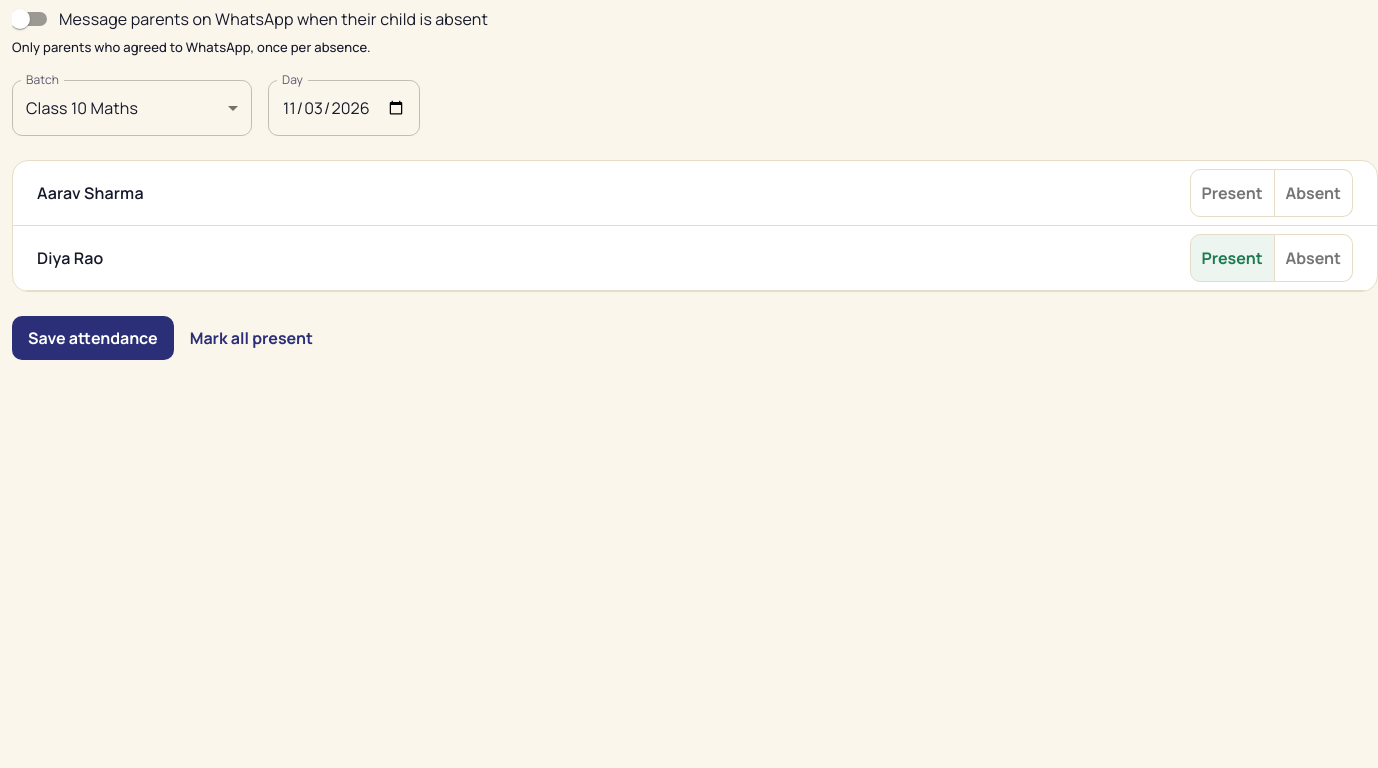
Test: Attendance › marks students and saves, saying how many parents were told
The image size is (1378, 768).
Click the button "Absent" in the row of "Aarav Sharma": (1313, 193) [1274,169,1353,217]
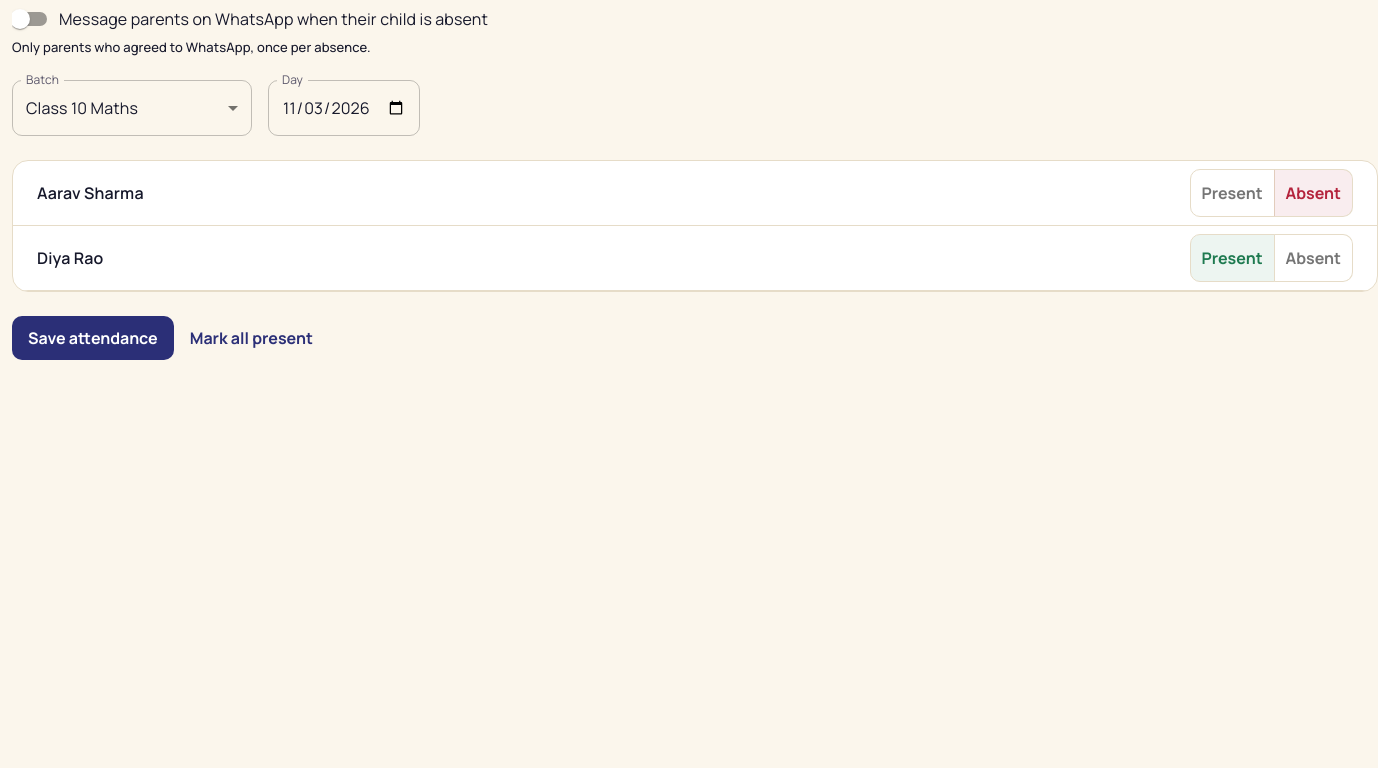
Click the button "Save attendance": (93, 338) [12,316,174,360]
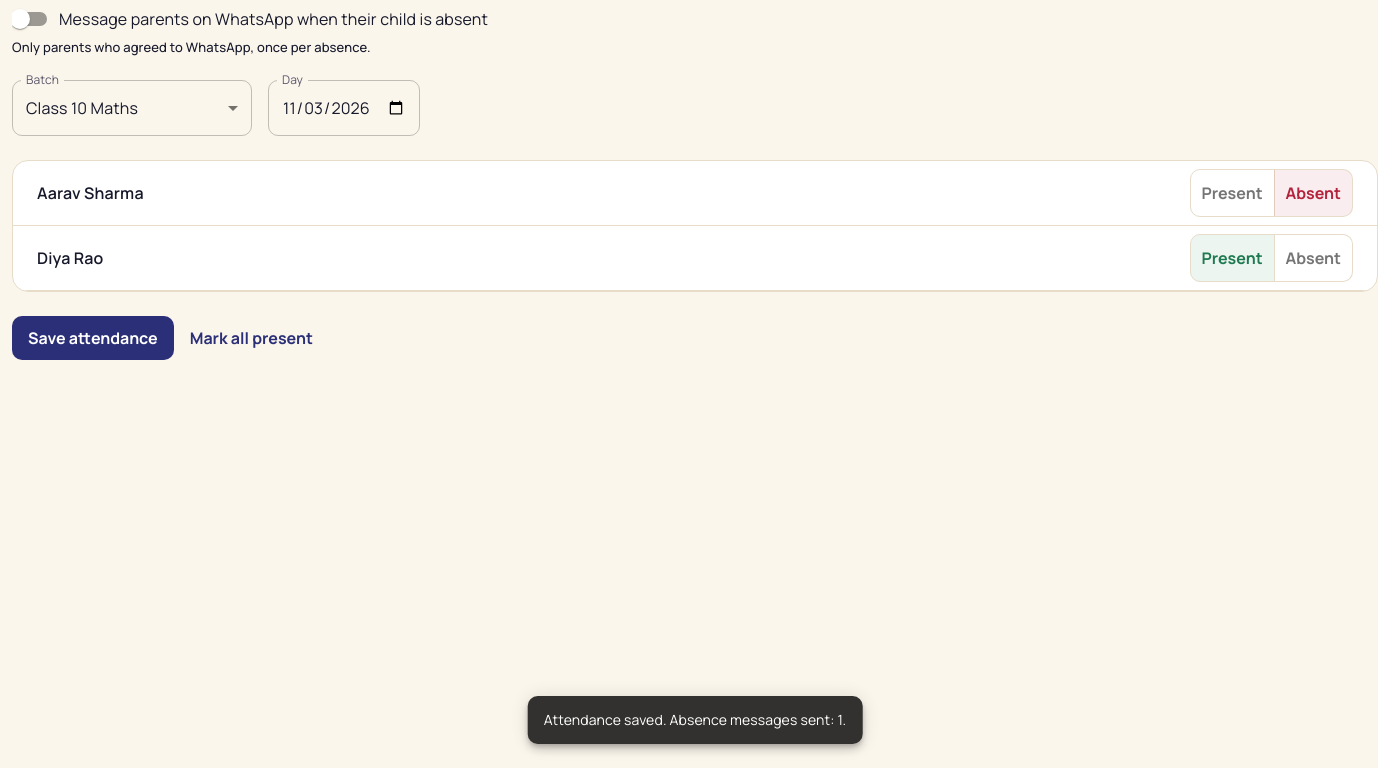
Now the text "Attendance saved. Absence messages sent: 1." is shown, box [544,710,846,729]
